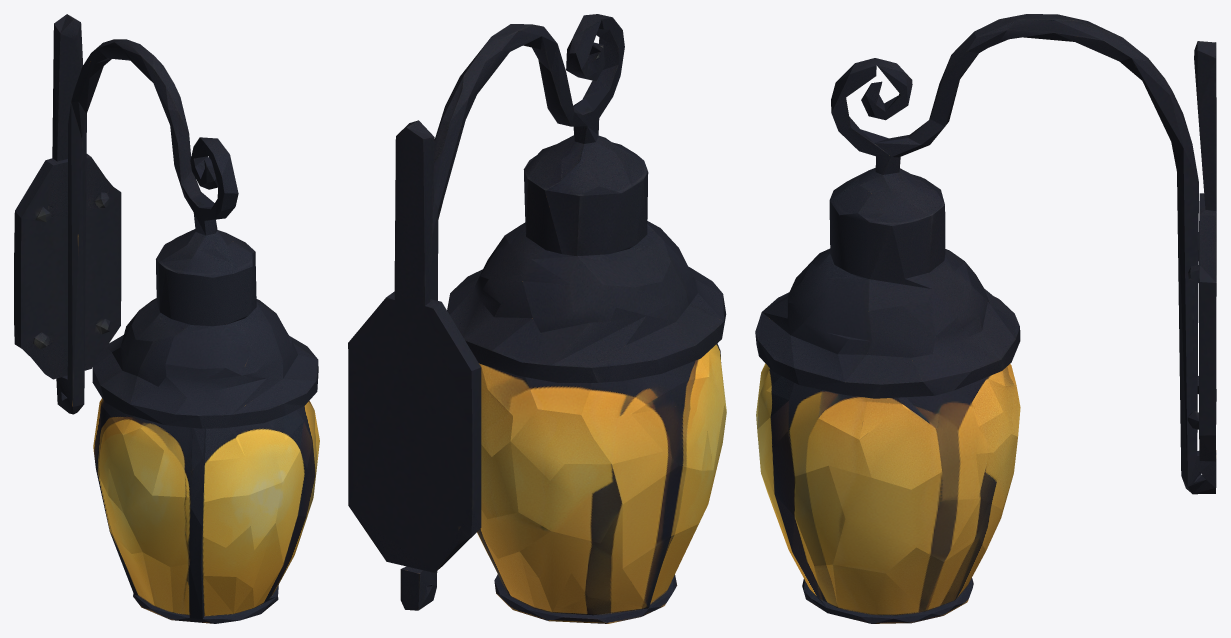
Rendered from wall_lantern.glb.
3 renders of one model, left to right at view 1: azimuth 30°, elevation 25°; view 2: azimuth 150°, elevation 25°; view 3: azimuth 270°, elevation 25°, orthographic. The views are drawn at different scales.
Size of the model in its own units: 0.7853 by 1.9 by 1.38.
1 material, 1 textured.
